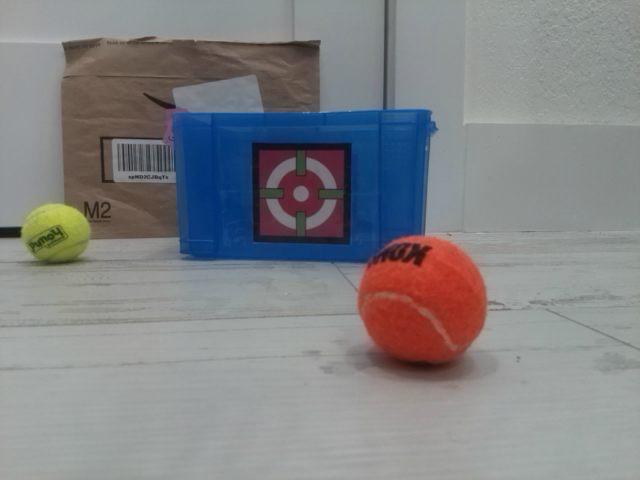drop-bin: (251, 142, 353, 245)
orange-ball: (358, 234, 488, 368)
yellow-ball: (20, 202, 91, 268)
